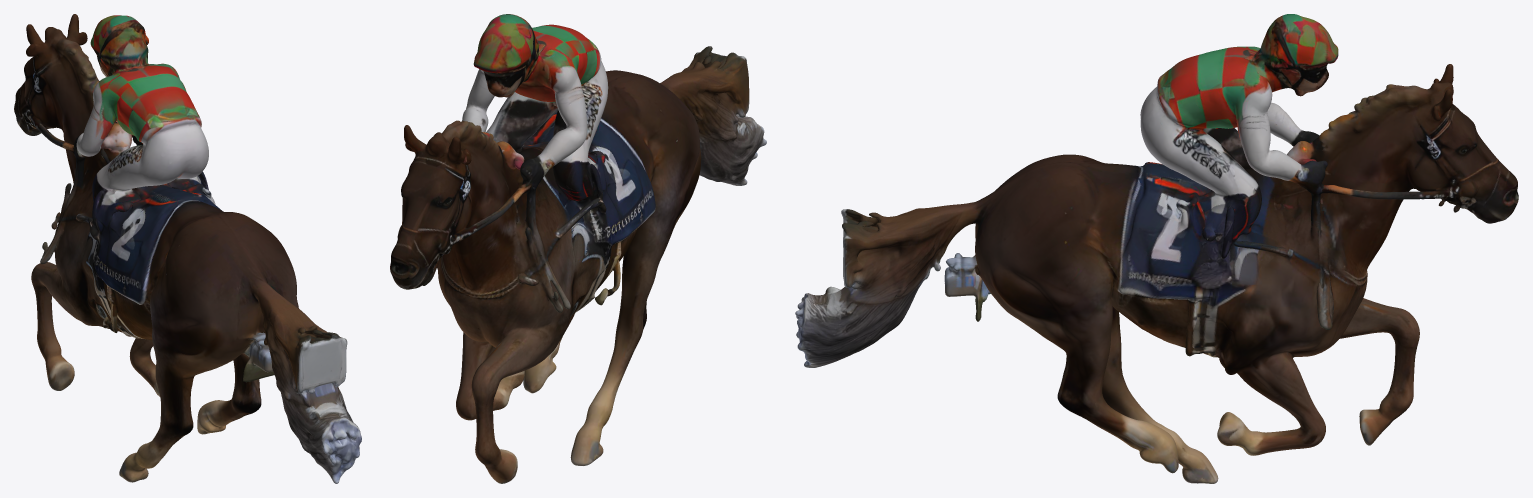
File: muraad.glb
3 views of the same model, side by side, from view 1: azimuth 30°, elevation 25°; view 2: azimuth 150°, elevation 25°; view 3: azimuth 270°, elevation 25° (orthographic). The views are drawn at different scales.
Visible parts, largest first — view 1: tripo_node_d11d7d7a-b9ad-43a7-a394-09ec68778702; view 2: tripo_node_d11d7d7a-b9ad-43a7-a394-09ec68778702; view 3: tripo_node_d11d7d7a-b9ad-43a7-a394-09ec68778702.
Part boxes in pixels (x1,y1,x2,y2): tripo_node_d11d7d7a-b9ad-43a7-a394-09ec68778702: (14,14,361,483); tripo_node_d11d7d7a-b9ad-43a7-a394-09ec68778702: (390,14,766,483); tripo_node_d11d7d7a-b9ad-43a7-a394-09ec68778702: (795,14,1518,483).
Size of the model in its own units: 0.2245 by 0.6938 by 0.9461.
Materials: 1 (1 with a texture image).
